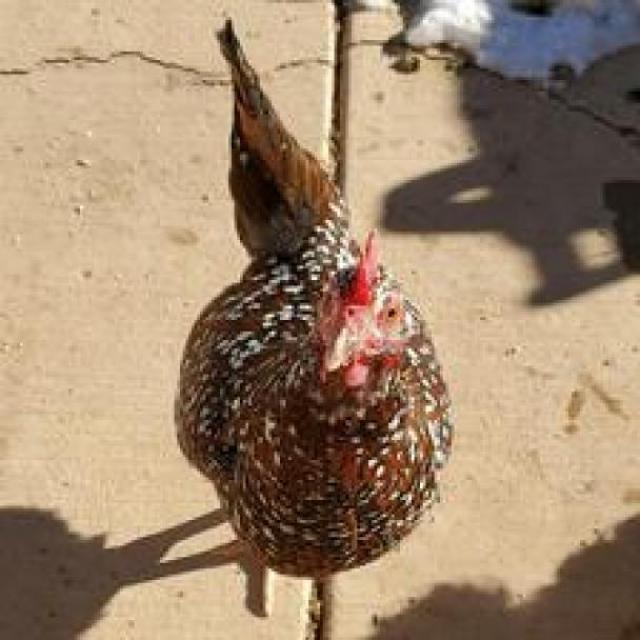Chicken: (127, 11, 554, 640)
